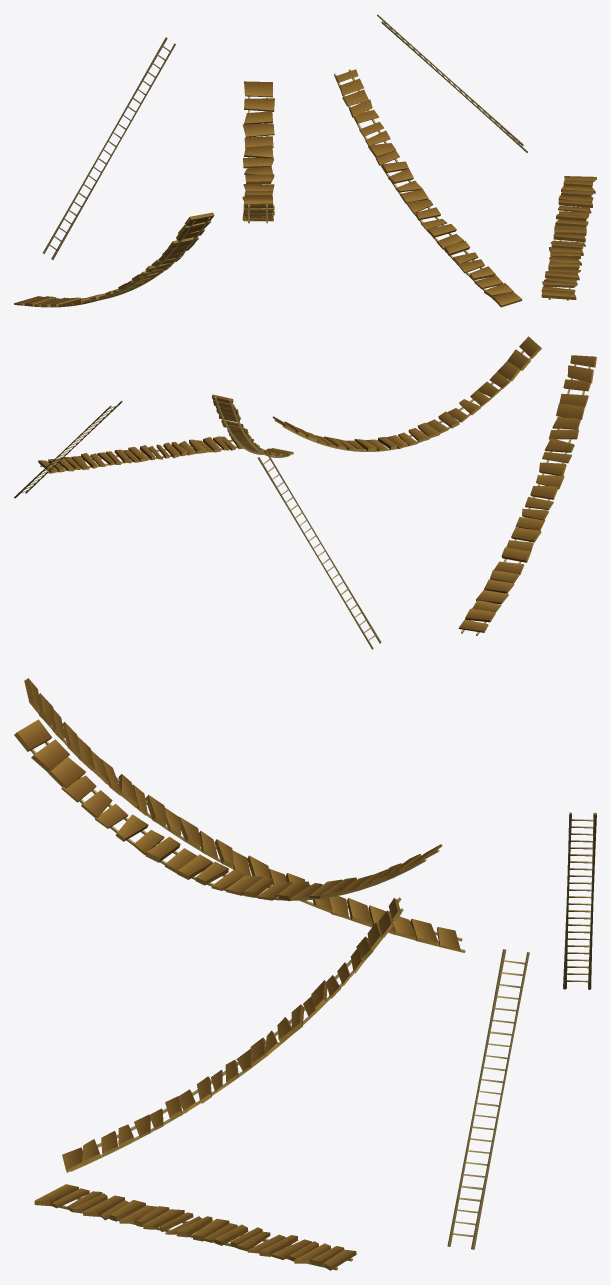
File: BRIDGE_LADDER.fbx
3 renders of one model, top to bottom at view 1: azimuth 30°, elevation 25°; view 2: azimuth 150°, elevation 25°; view 3: azimuth 270°, elevation 25°, orthographic. The views are drawn at different scales.
Parts seen in each view (by area): view 1: BRIDGE_LADDER; view 2: BRIDGE_LADDER; view 3: BRIDGE_LADDER.
Boxes of the visible parts, <box> form: BRIDGE_LADDER: <box>14,14,596,307</box>; BRIDGE_LADDER: <box>14,336,596,649</box>; BRIDGE_LADDER: <box>14,678,596,1270</box>.
Size of the model in its own units: 36.87 by 12.74 by 24.22.
